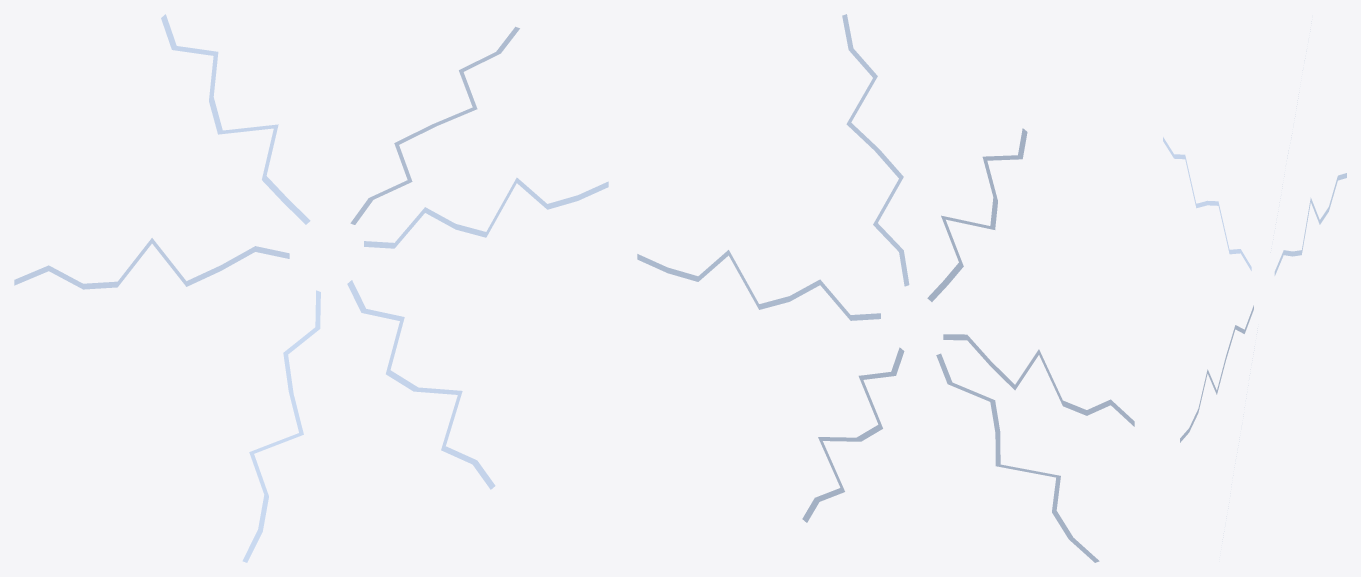
The model's file is black-rain-lightning.glb.
The picture shows the model from 3 angles, left to right: view 1: azimuth 30°, elevation 25°; view 2: azimuth 150°, elevation 25°; view 3: azimuth 270°, elevation 25°; orthographic projection. The views are drawn at different scales.
Parts seen in each view (by area): view 1: 黒雨・自作3D・lightning; view 2: 黒雨・自作3D・lightning; view 3: 黒雨・自作3D・lightning.
Part boxes in pixels (<box>): 黒雨・自作3D・lightning: <box>14,14,608,562</box>; 黒雨・自作3D・lightning: <box>637,14,1134,562</box>; 黒雨・自作3D・lightning: <box>1163,21,1346,541</box>.
Size of the model in its own units: 1.56 by 1.37 by 0.5266.
